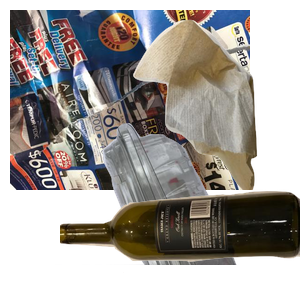glass: (60, 189, 300, 300)
paper: (10, 10, 250, 190)
plastic: (55, 120, 284, 300)
trash: (131, 17, 300, 197)
